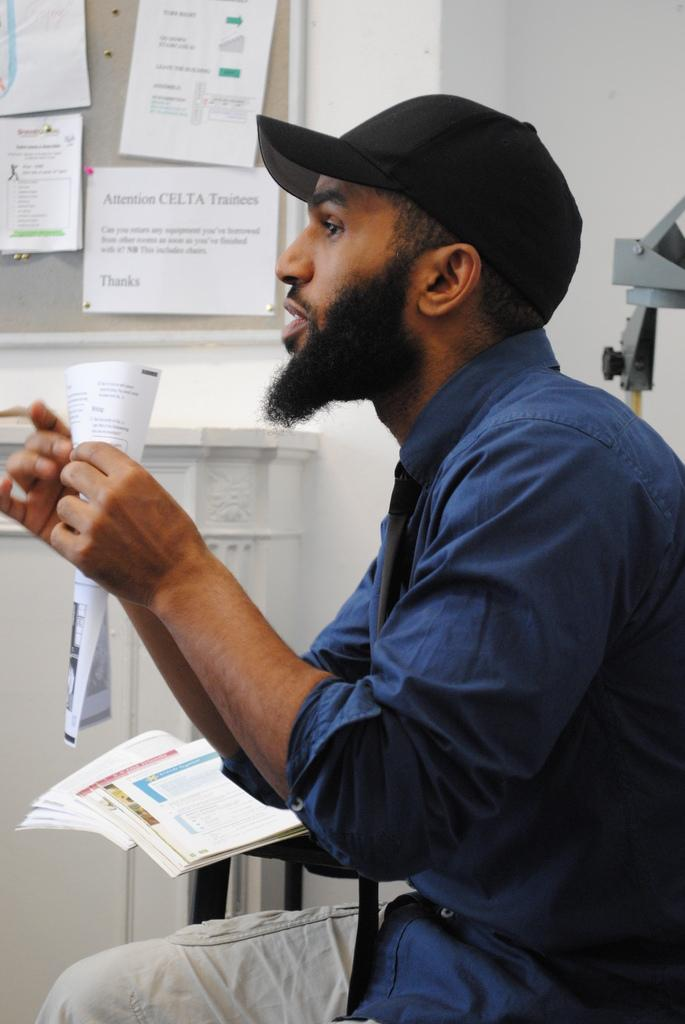Hat: (254, 94, 588, 324)
